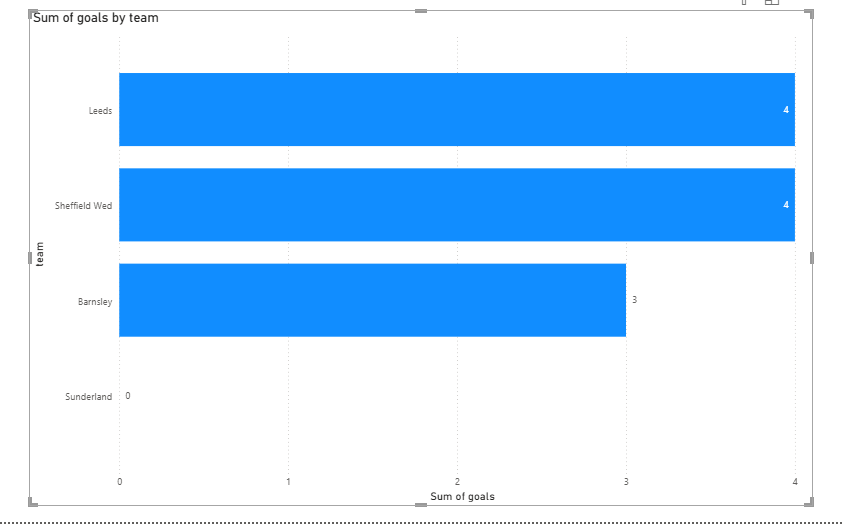

What the dashboard file says about the page in this screenshot:
{"tool":"powerbi","page":{"name":"Page 1","canvas":[1280,720],"ordinal":0},"visuals":[{"type":"clusteredBarChart","fields":{"Category":["Sheet1.team"],"Y":["Sum(Sheet1.goals)"]},"box":[208.2,61.7,836.6,532],"z":0}]}

Visuals, with their boxes on the page's 1280x720 design canvas (x1, y1, x2, y2). These are canvas units, not pixel positions in the 842x524 screenshot, which may show the page scaled, cropped or inside an application window:
clusteredBarChart - Sheet1.team x Sum(Sheet1.goals): 208:62:1045:594
